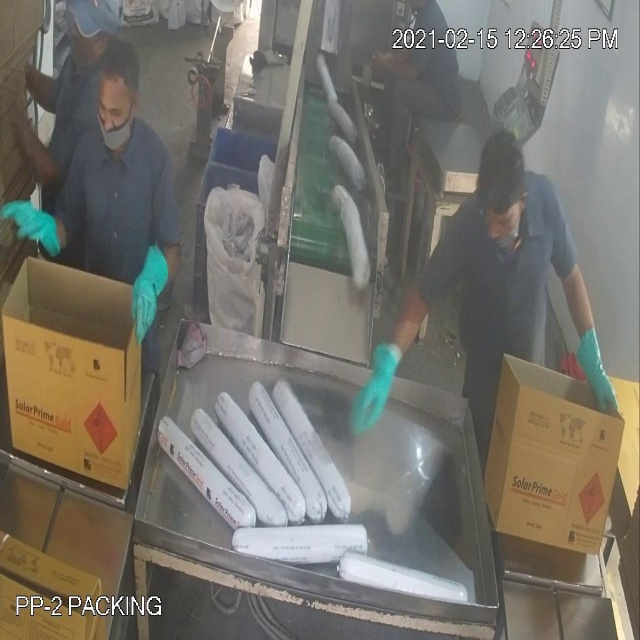Guantes: (117, 233, 177, 348), (350, 331, 400, 442), (570, 315, 621, 422), (5, 195, 60, 260)
Sin_guantes: (4, 96, 60, 186), (359, 43, 424, 87), (18, 63, 65, 108)
